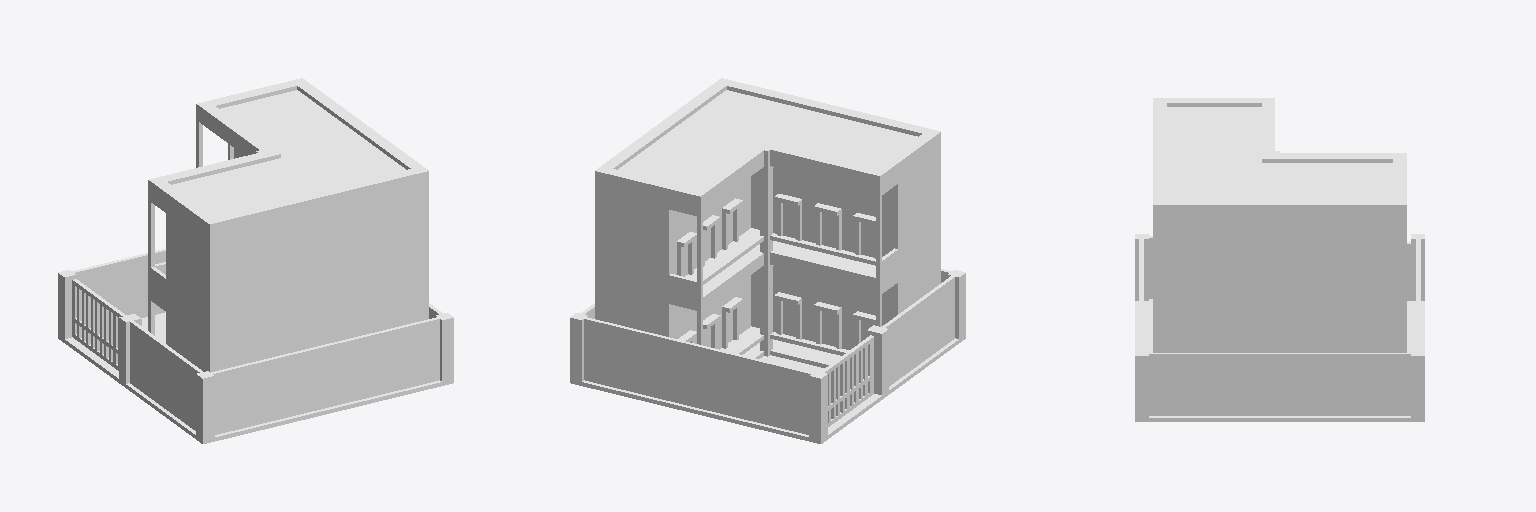
Rendered from kost-1.obj.
3 renders of one model, left to right at view 1: azimuth 30°, elevation 25°; view 2: azimuth 150°, elevation 25°; view 3: azimuth 270°, elevation 25°, orthographic.
Parts seen in each view (by area): view 1: object 1; view 2: object 1; view 3: object 1.
Boxes of the visible parts, box(x1,y1,x2,y2) form: object 1: box(58, 78, 453, 443); object 1: box(570, 78, 965, 443); object 1: box(1135, 98, 1424, 421).
Bounding box in the file's own units: 6.4 × 5.1 × 6.4.